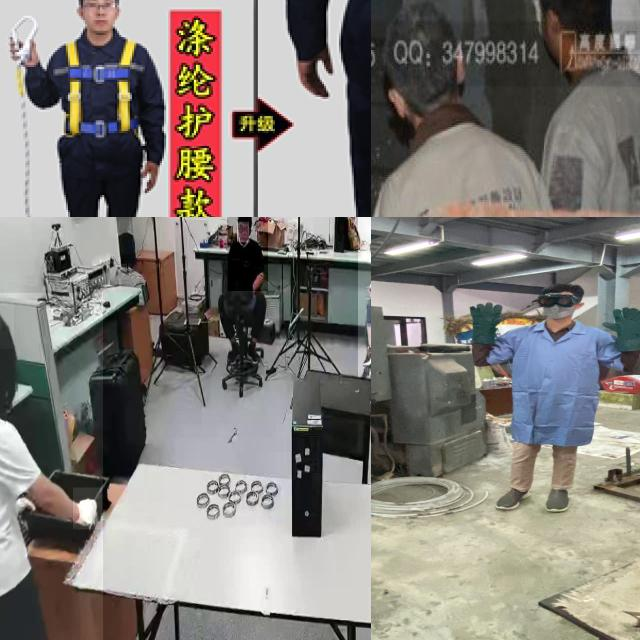Harness: (53, 34, 148, 168)
face_mask: (537, 294, 577, 318)
face_nomask: (237, 222, 249, 243)
glasses: (526, 292, 582, 310)
hand_glove: (599, 306, 640, 339), (73, 488, 103, 530), (466, 298, 507, 328)
head_nohelmet: (380, 4, 453, 73), (538, 281, 586, 298), (0, 302, 14, 350), (236, 217, 251, 221)
person: (462, 279, 640, 523), (371, 0, 554, 217), (0, 293, 103, 640), (526, 0, 640, 217), (227, 217, 268, 292), (358, 217, 371, 378)
shoes: (488, 483, 535, 513), (540, 484, 573, 514), (246, 339, 262, 367), (228, 340, 242, 367), (360, 342, 371, 370)
